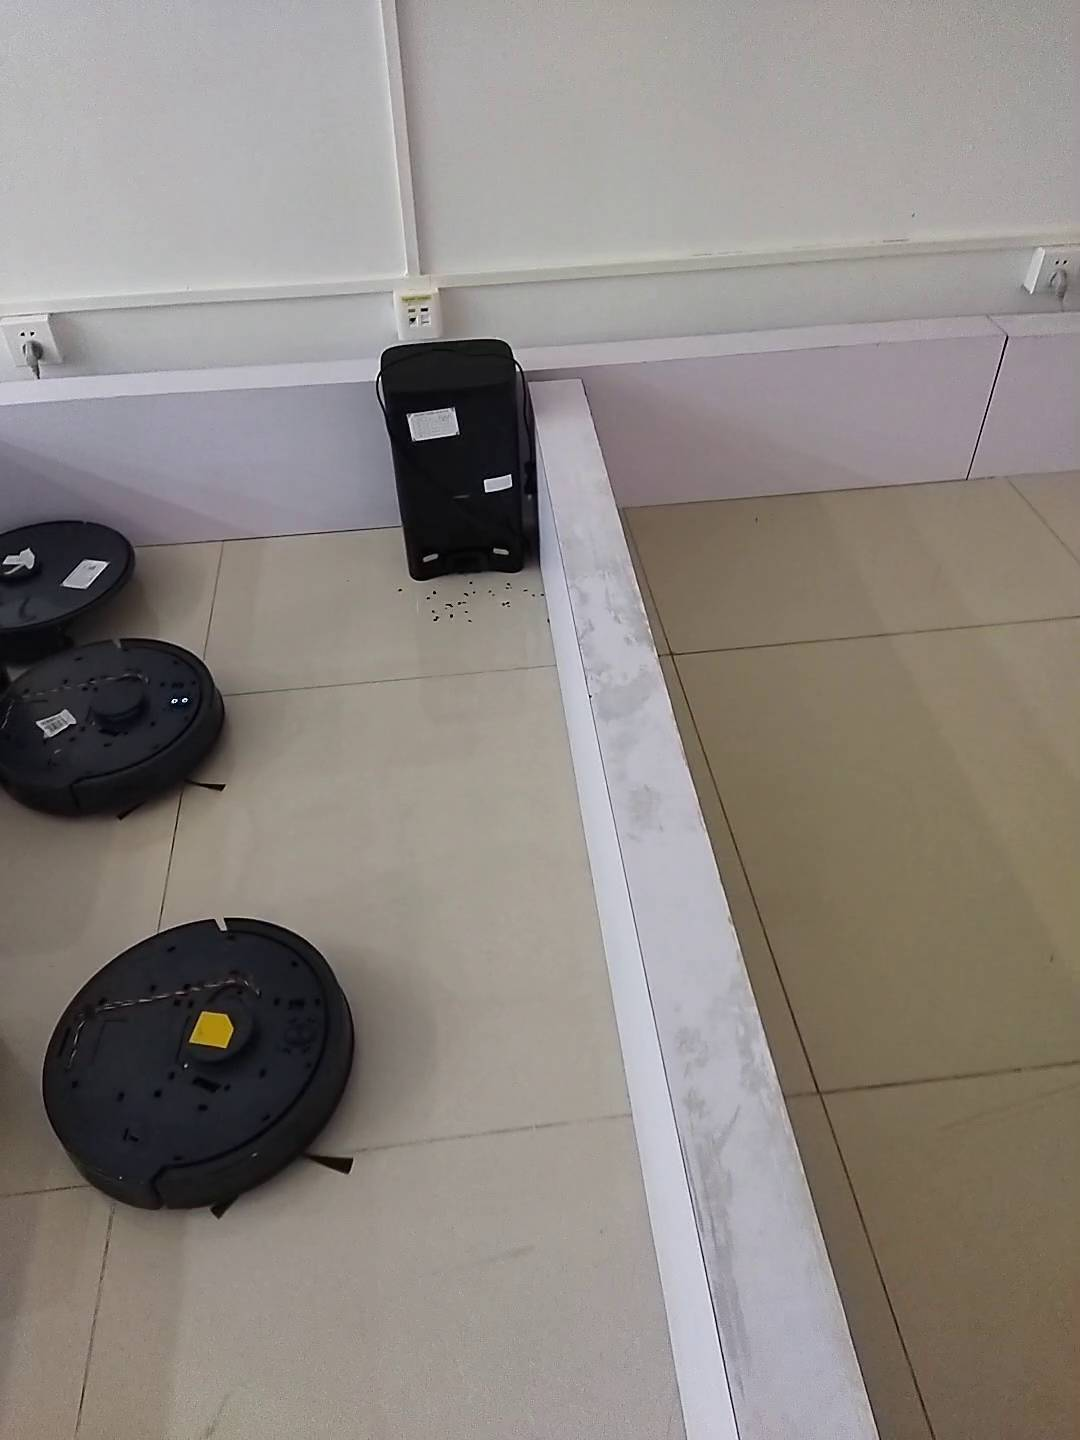dust collecting barrel: (378, 341, 535, 584)
